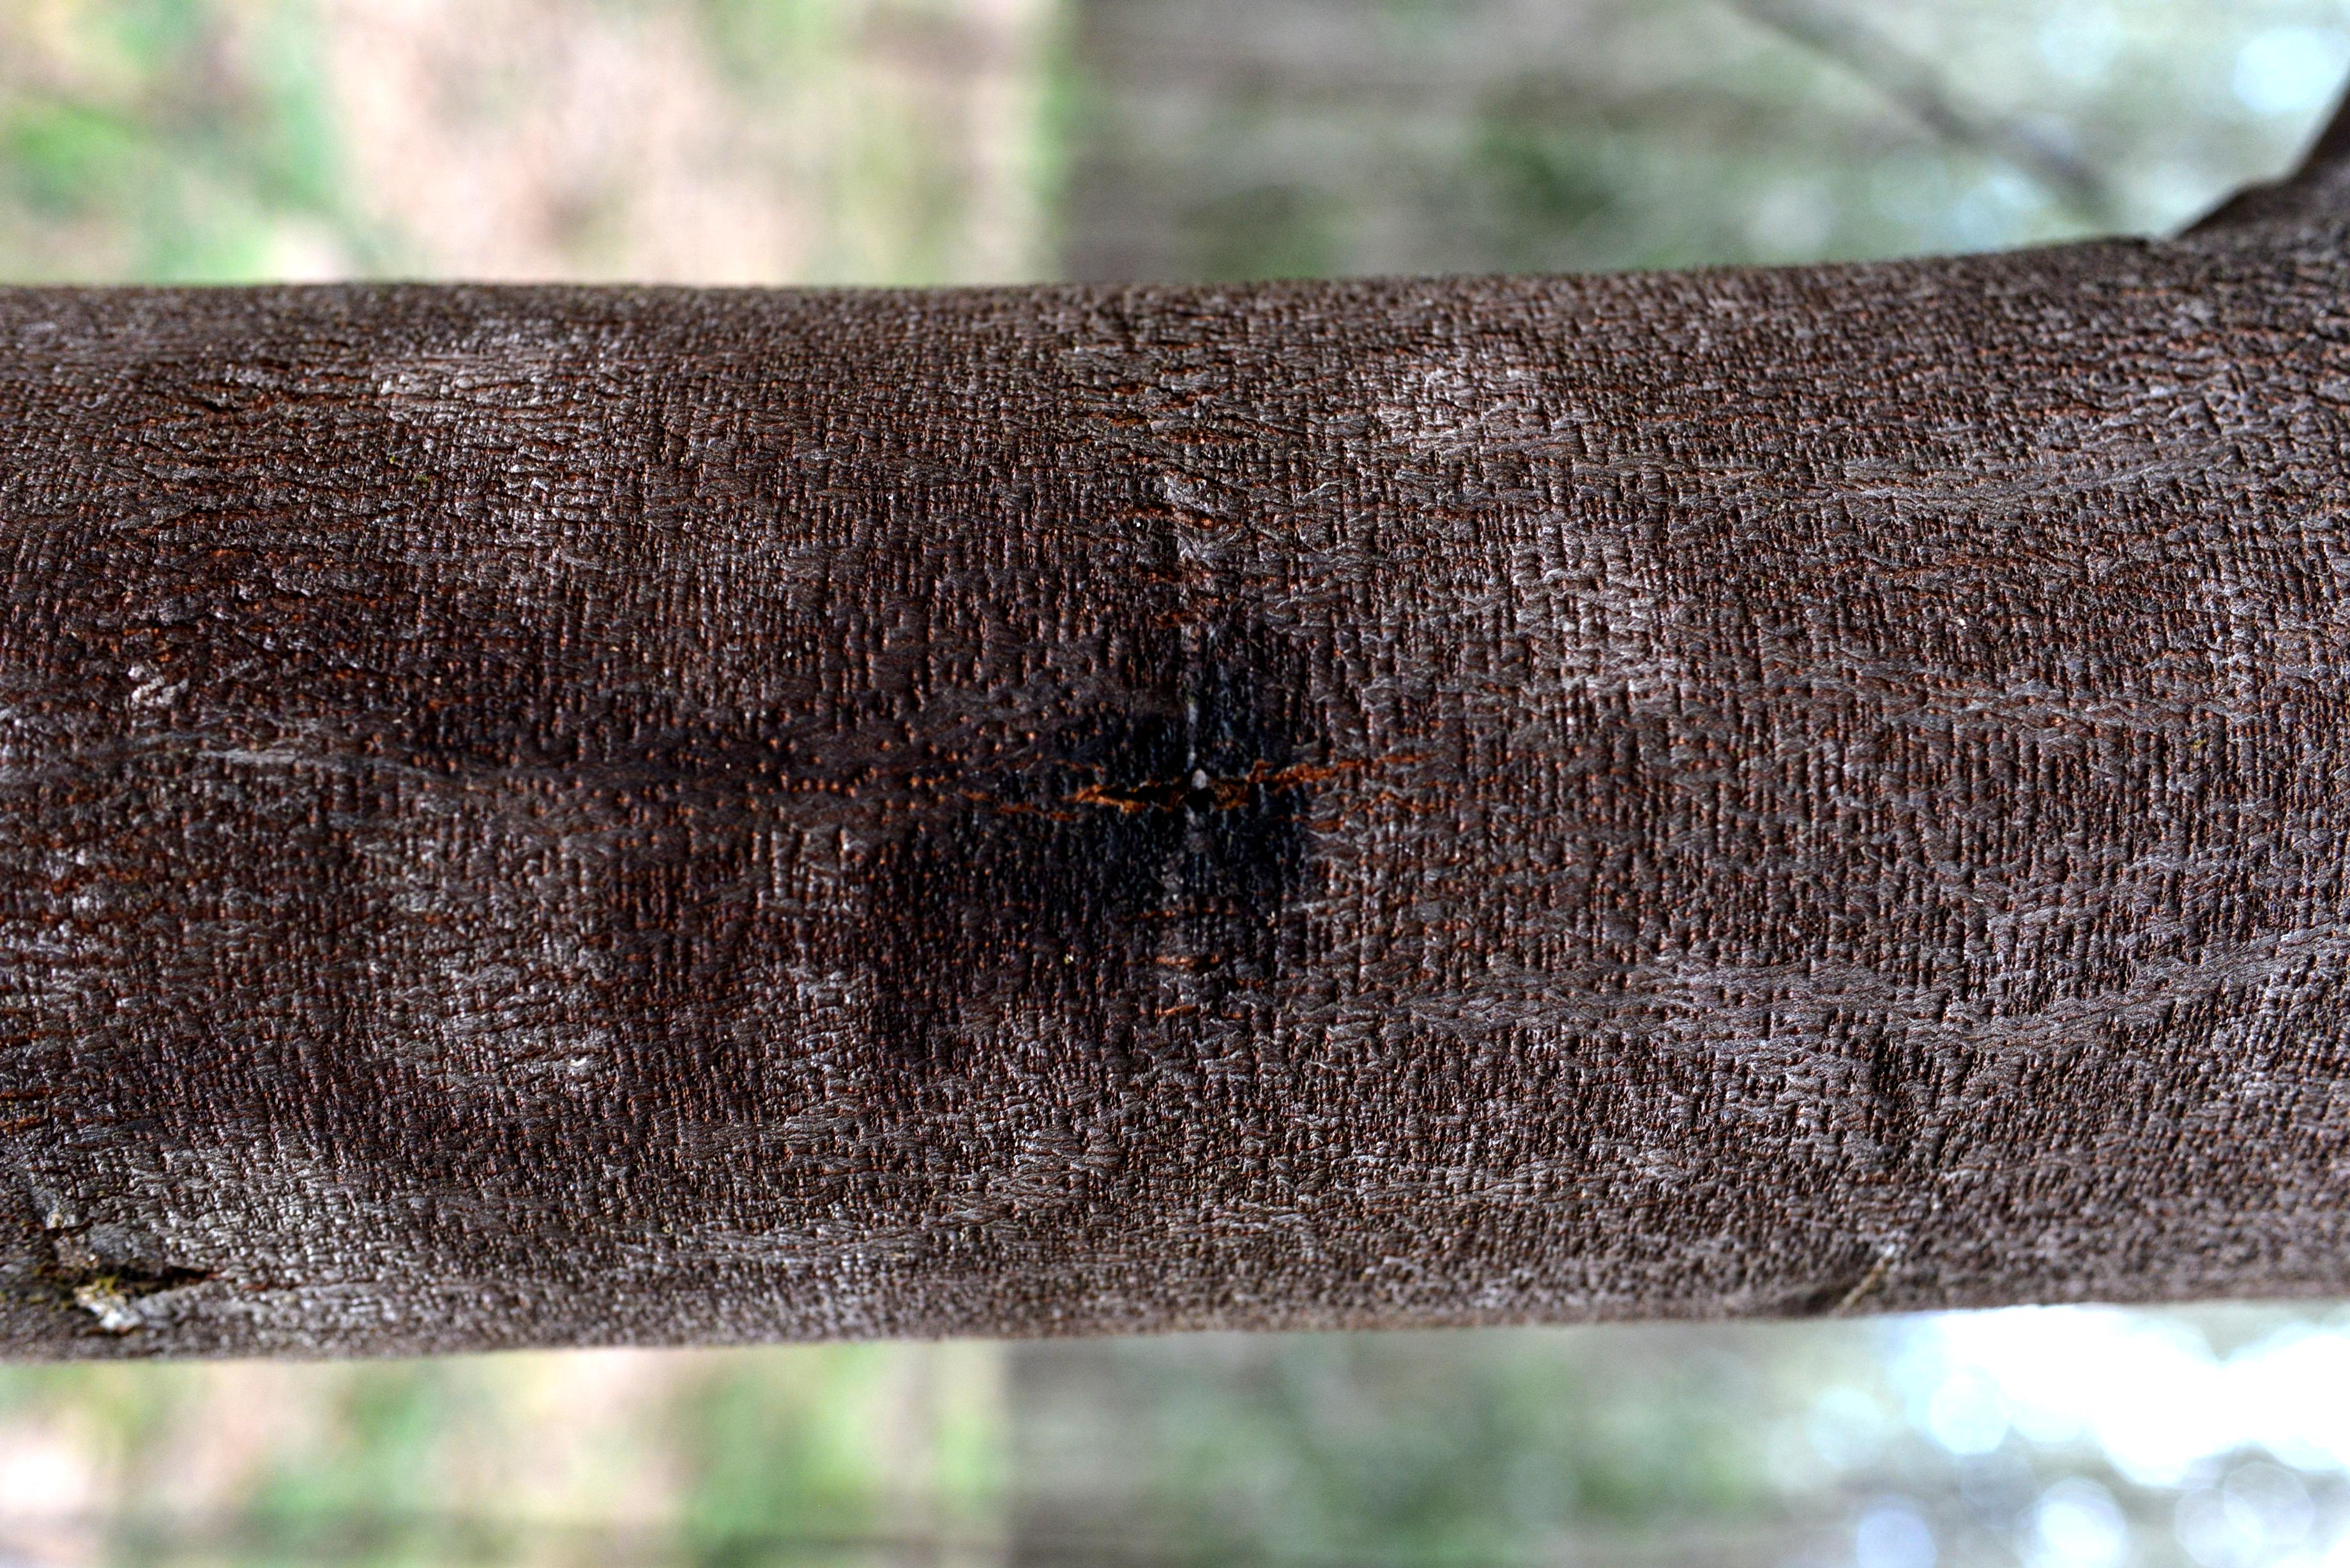Stem Borer: (870, 604, 1353, 1031)
